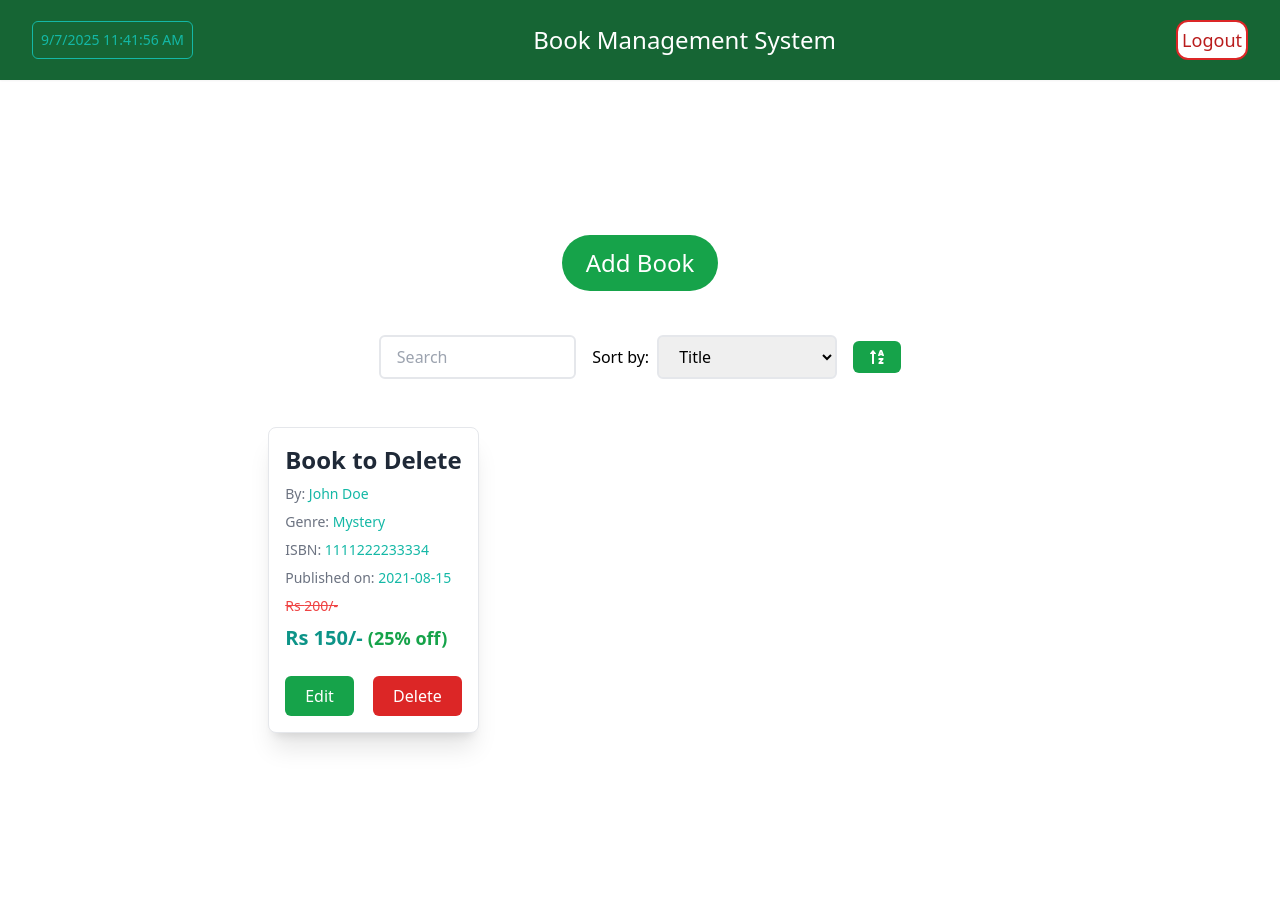
Test: BookManager › deletes a book when delete button is clicked
Expected: the heading "Book to Delete" is shown, 285,444 -> 462,476
Click the button with test id "deletebtn" at (417, 696), box 373,676 -> 462,716
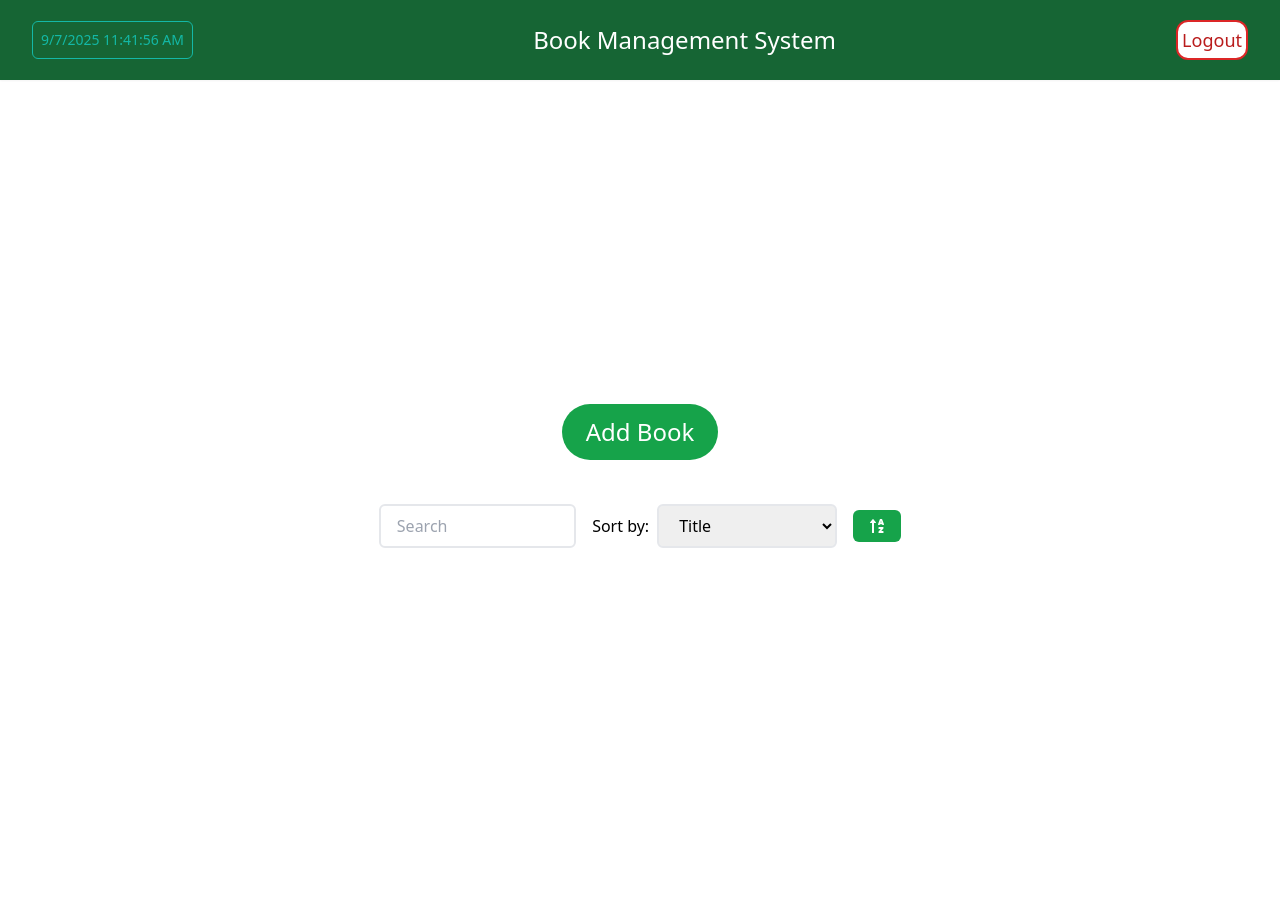
Expected: the heading "Book to Delete" is gone
